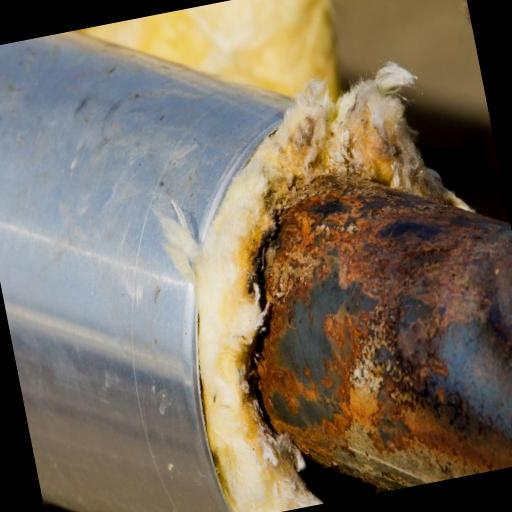corrosion: (250, 176, 512, 489)
